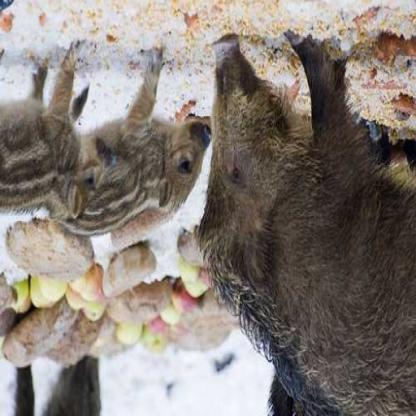boar: (203, 55, 415, 416), (21, 75, 201, 284)
